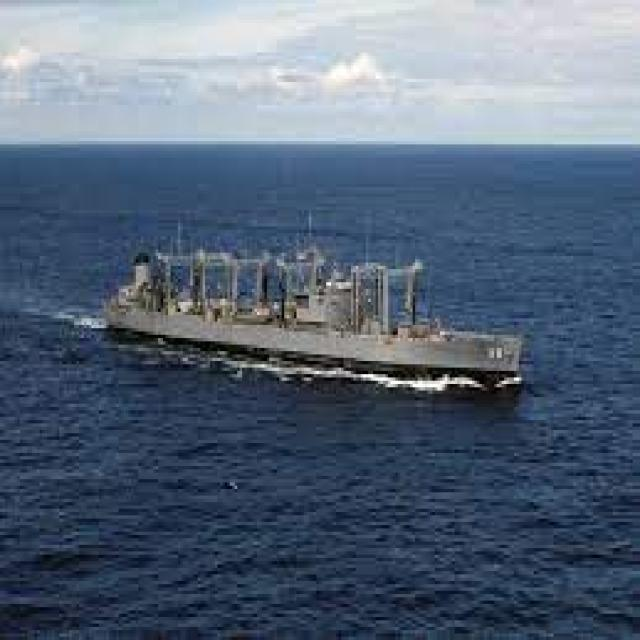navalvessels: (89, 216, 528, 398)
